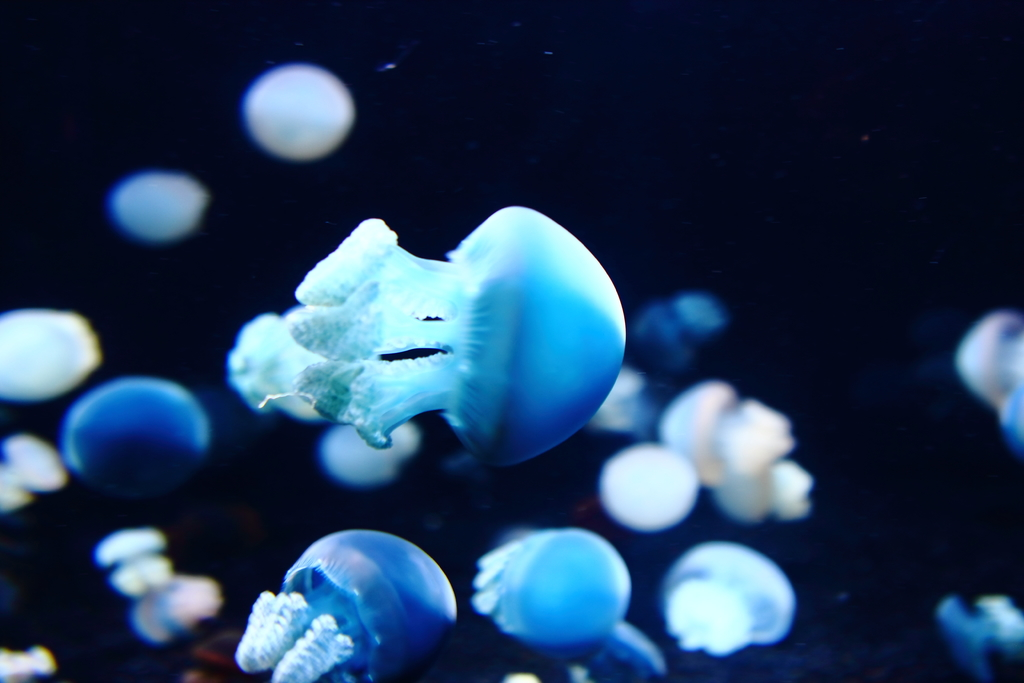Jellyfish: (236, 183, 643, 492), (233, 531, 456, 682), (472, 531, 666, 682), (659, 383, 816, 519), (661, 540, 797, 654), (96, 523, 220, 644), (0, 431, 64, 517)
